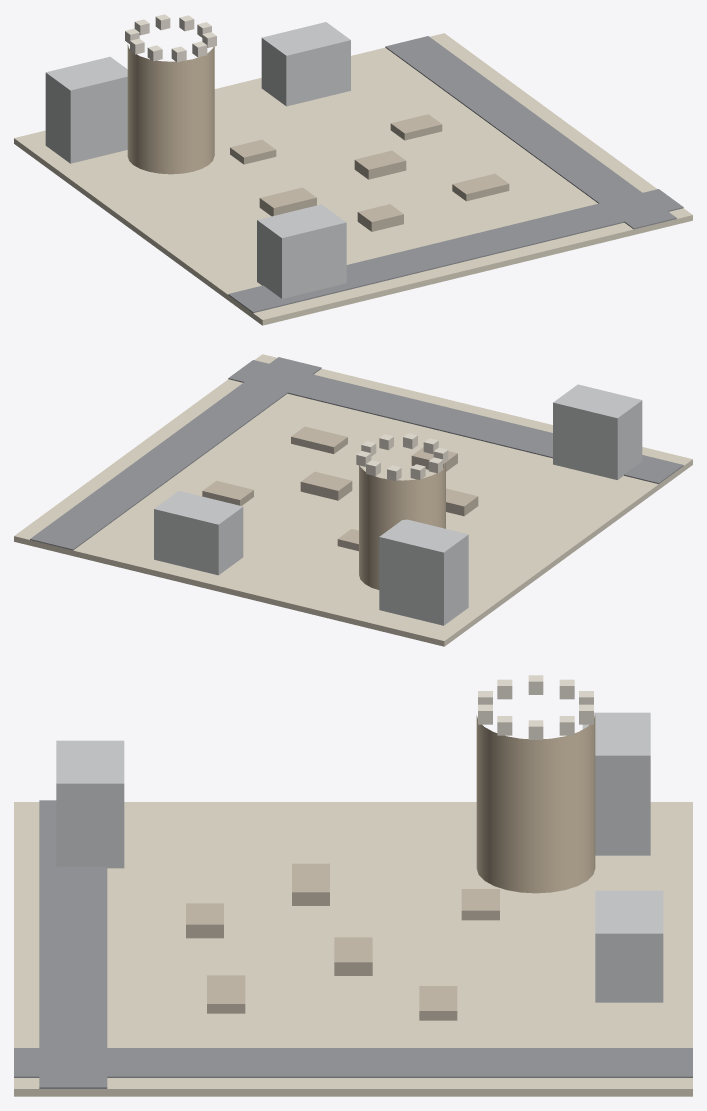
File: al-hisn-1969.glb
3 renders of one model, top to bottom at view 1: azimuth 30°, elevation 25°; view 2: azimuth 150°, elevation 25°; view 3: azimuth 270°, elevation 25°, orthographic. The views are drawn at different scales.
Visible parts, largest first — view 1: al-hisn-1969.glb; view 2: al-hisn-1969.glb; view 3: al-hisn-1969.glb.
Boxes of the visible parts, x1,y1,x2,y2 form: al-hisn-1969.glb: (14, 14, 692, 325); al-hisn-1969.glb: (14, 354, 692, 646); al-hisn-1969.glb: (14, 675, 692, 1096).
Size of the model in its own units: 1.6 by 0.455 by 1.6.
